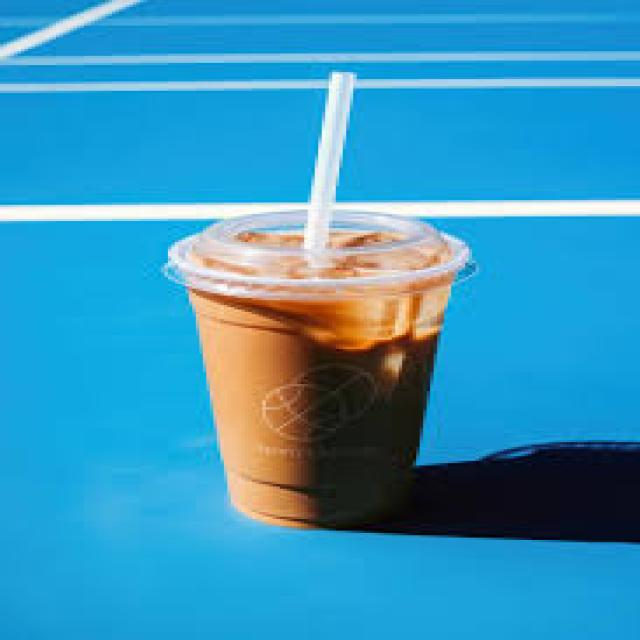bottle: (191, 287, 449, 527)
